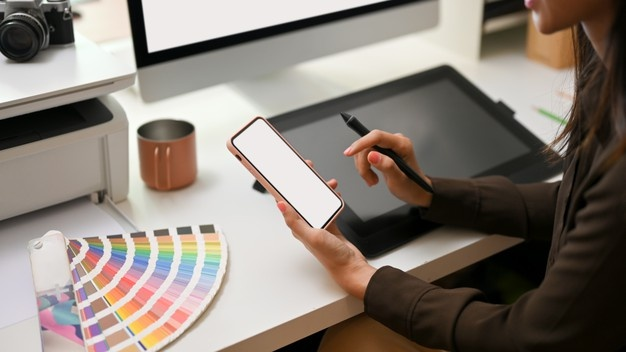Cell Phone: (221, 114, 345, 238)
